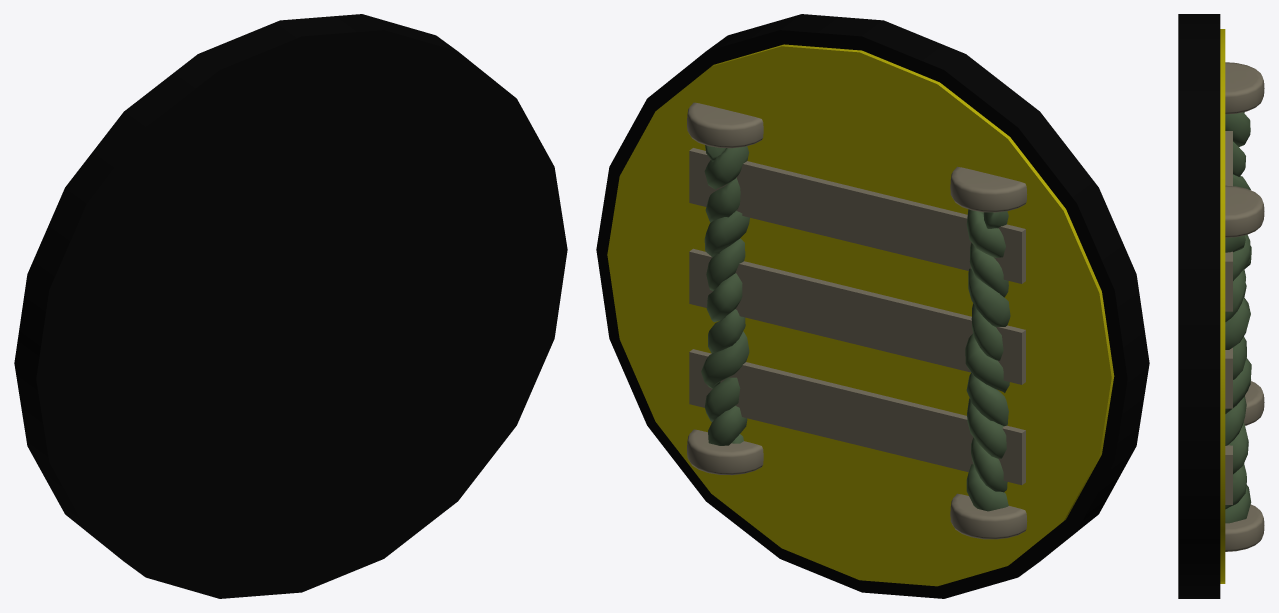
Rendered from Item.fbx.
The picture shows the model from 3 angles, left to right: view 1: azimuth 30°, elevation 25°; view 2: azimuth 150°, elevation 25°; view 3: azimuth 270°, elevation 25°; orthographic projection. The views are drawn at different scales.
Parts seen in each view (by area): view 1: pasted__pCylinder1; view 2: pCylinder1, pCube5, pasted__pCylinder1; view 3: pasted__pCylinder1, pCube5, pCylinder1.
Part boxes in pixels (bbox=[...]): pasted__pCylinder1: bbox=[14, 14, 567, 598]; pCylinder1: bbox=[607, 44, 1114, 586]; pCube5: bbox=[687, 102, 1027, 539]; pasted__pCylinder1: bbox=[596, 14, 1149, 598]; pasted__pCylinder1: bbox=[1178, 14, 1220, 598]; pCube5: bbox=[1225, 62, 1264, 551]; pCylinder1: bbox=[1220, 29, 1225, 583].
Size of the model in its own units: 47.66 by 47.66 by 6.96.
